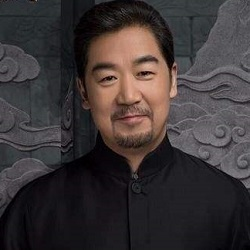unmask: (79, 24, 175, 151)
